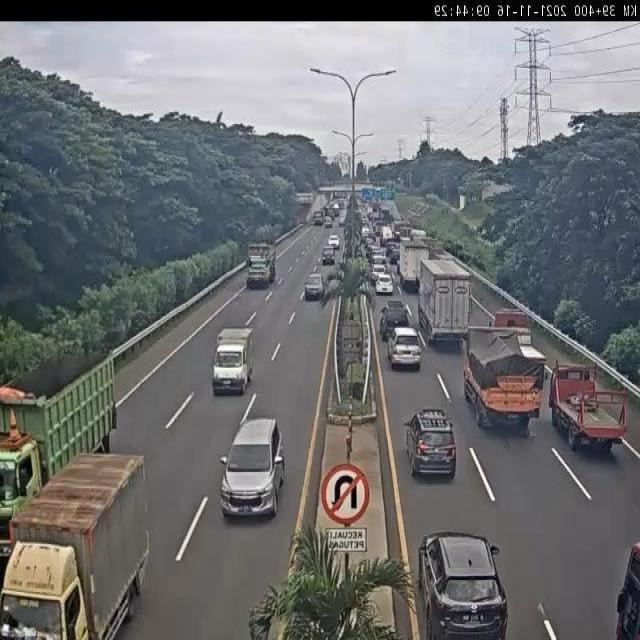Car: (416, 530, 506, 638), (220, 416, 284, 519), (405, 408, 457, 477), (386, 325, 422, 370), (379, 300, 410, 342), (304, 272, 324, 302), (374, 273, 394, 296), (371, 263, 387, 283), (385, 240, 399, 258), (390, 247, 402, 265), (328, 234, 341, 250), (324, 216, 332, 229), (339, 216, 347, 227)
Truck: (0, 448, 151, 640), (0, 350, 122, 561), (460, 323, 546, 434), (544, 358, 633, 451), (419, 258, 471, 346), (486, 307, 546, 368), (212, 326, 255, 396), (245, 242, 278, 291), (397, 237, 426, 292), (379, 224, 393, 245), (312, 210, 324, 226)
